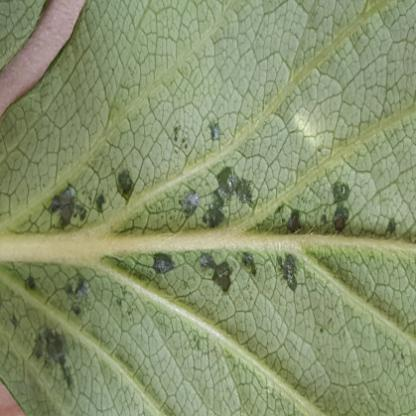Strawberry_Angular_LeafSpot: (2, 108, 408, 401)
